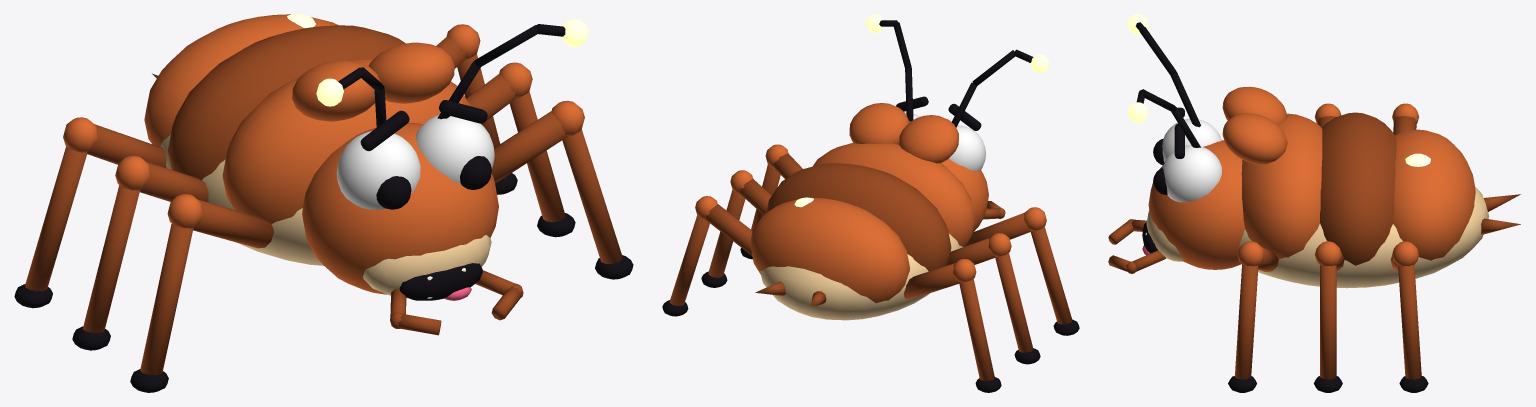
The model's file is Crawler_Rust.fbx.
The picture shows the model from 3 angles, left to right: view 1: azimuth 30°, elevation 25°; view 2: azimuth 150°, elevation 25°; view 3: azimuth 270°, elevation 25°; orthographic projection. The views are drawn at different scales.
Visible parts, largest first — view 1: Body, LegsA, LegsB; view 2: Body, LegsA, LegsB; view 3: Body, LegsB, LegsA.
Boxes of the visible parts, x1,y1,x2,y2 form: Body: [144, 14, 588, 335]; LegsA: [14, 62, 575, 392]; LegsB: [72, 24, 633, 350]; Body: [750, 14, 1049, 320]; LegsA: [701, 170, 1079, 392]; LegsB: [662, 144, 1040, 364]; Body: [1108, 14, 1520, 288]; LegsB: [1228, 103, 1428, 392]; LegsA: [1314, 103, 1418, 392].
Bounding box in the file's own units: 2.03 × 1.32 × 1.98.
